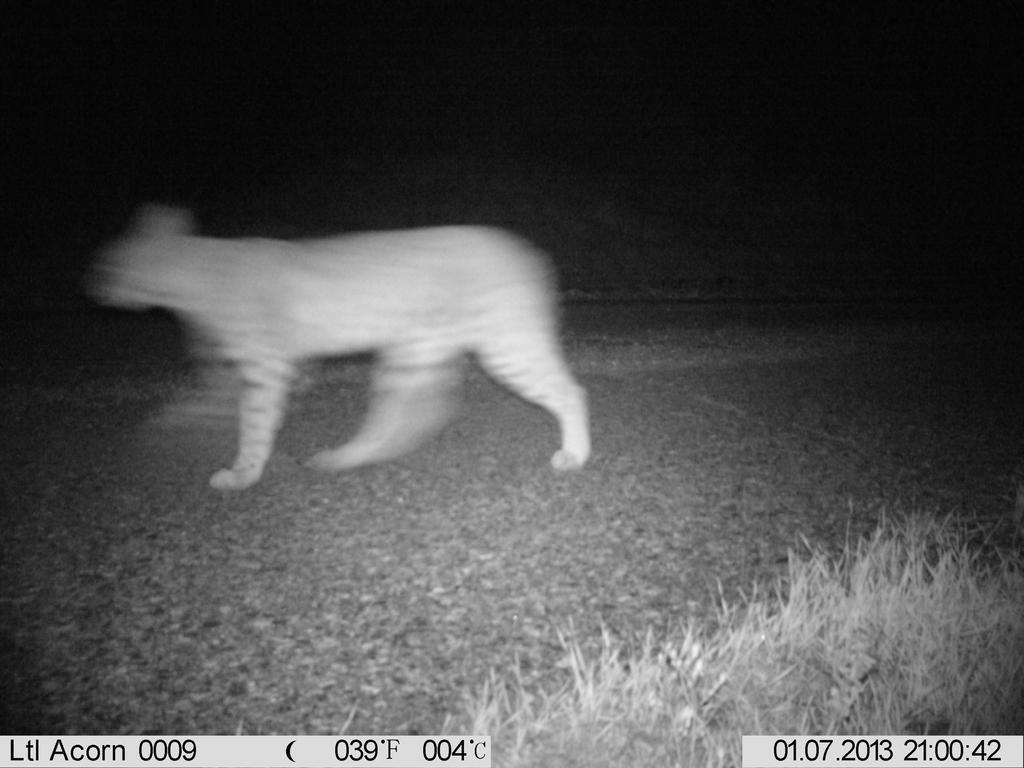bobcat: (72, 185, 605, 515)
